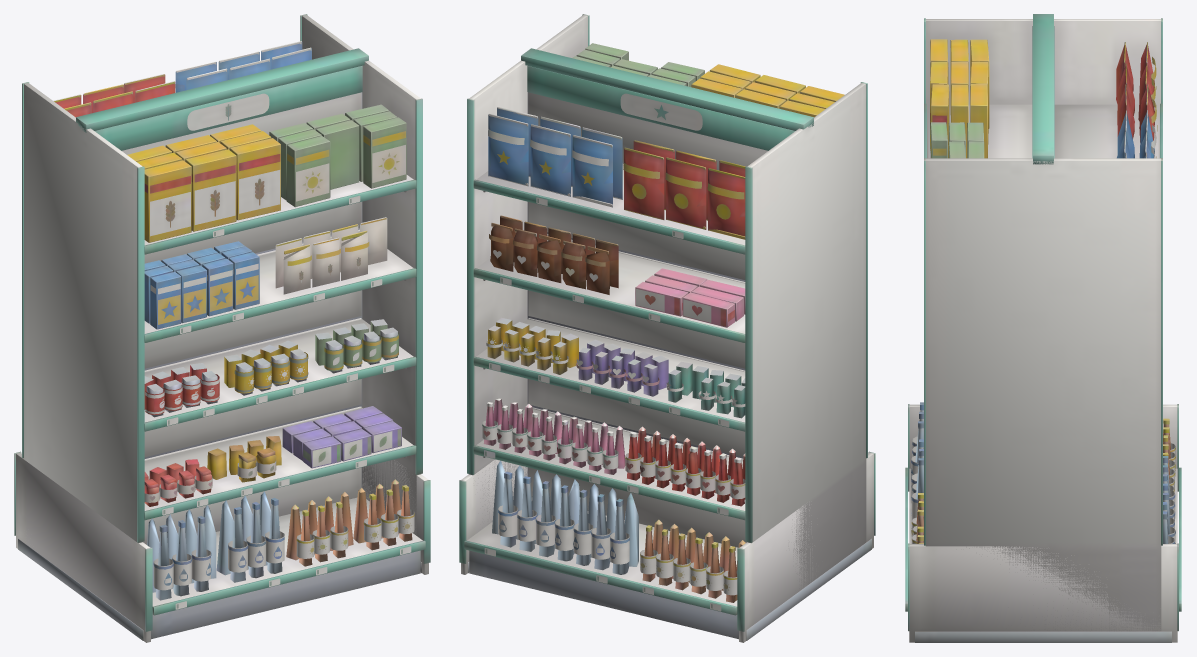
The model's file is g3-grocery-shelf-lite.glb.
3 views of the same model, side by side, from view 1: azimuth 30°, elevation 25°; view 2: azimuth 150°, elevation 25°; view 3: azimuth 270°, elevation 25° (orthographic). The views are drawn at different scales.
Visible parts, largest first — view 1: grocery-shelf_body; view 2: grocery-shelf_body; view 3: grocery-shelf_body.
Boxes of the visible parts, x1,y1,x2,y2 form: grocery-shelf_body: (14, 14, 430, 642); grocery-shelf_body: (459, 14, 875, 642); grocery-shelf_body: (905, 14, 1181, 642).
Bounding box in the file's own units: 1.25 × 1.99 × 1.04.
1 material, 1 textured.
